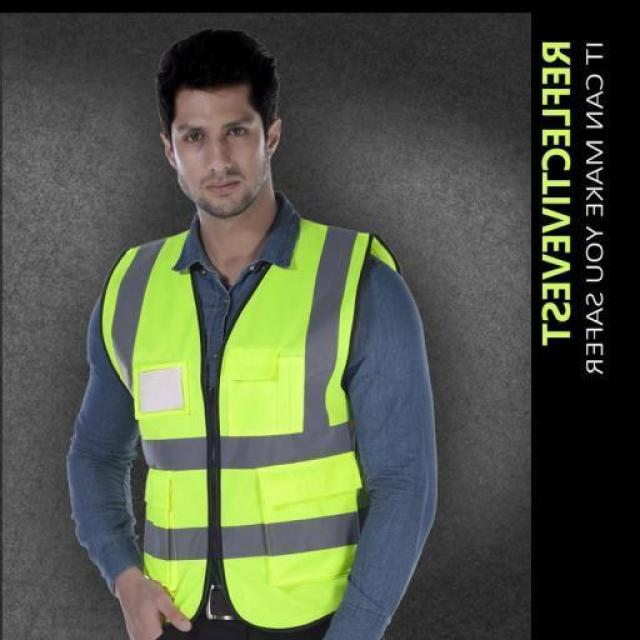vest: (112, 253, 354, 612)
